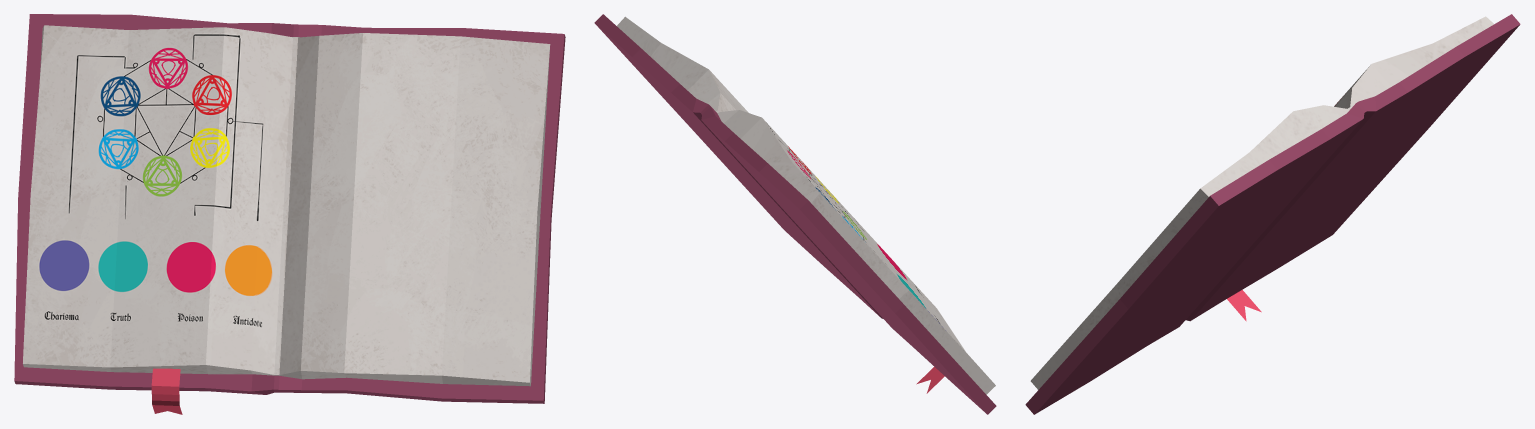
Rendered from Book_Open.fbx.
3 views of the same model, side by side, from view 1: azimuth 30°, elevation 25°; view 2: azimuth 150°, elevation 25°; view 3: azimuth 270°, elevation 25° (orthographic). The views are drawn at different scales.
Parts seen in each view (by area): view 1: BookOpen.002; view 2: BookOpen.002; view 3: BookOpen.002.
Boxes of the visible parts, x1,y1,x2,y2 form: BookOpen.002: [14, 14, 565, 414]; BookOpen.002: [594, 14, 996, 414]; BookOpen.002: [1025, 14, 1520, 414].
Bounding box in the file's own units: 73.19 × 44.32 × 64.47.
